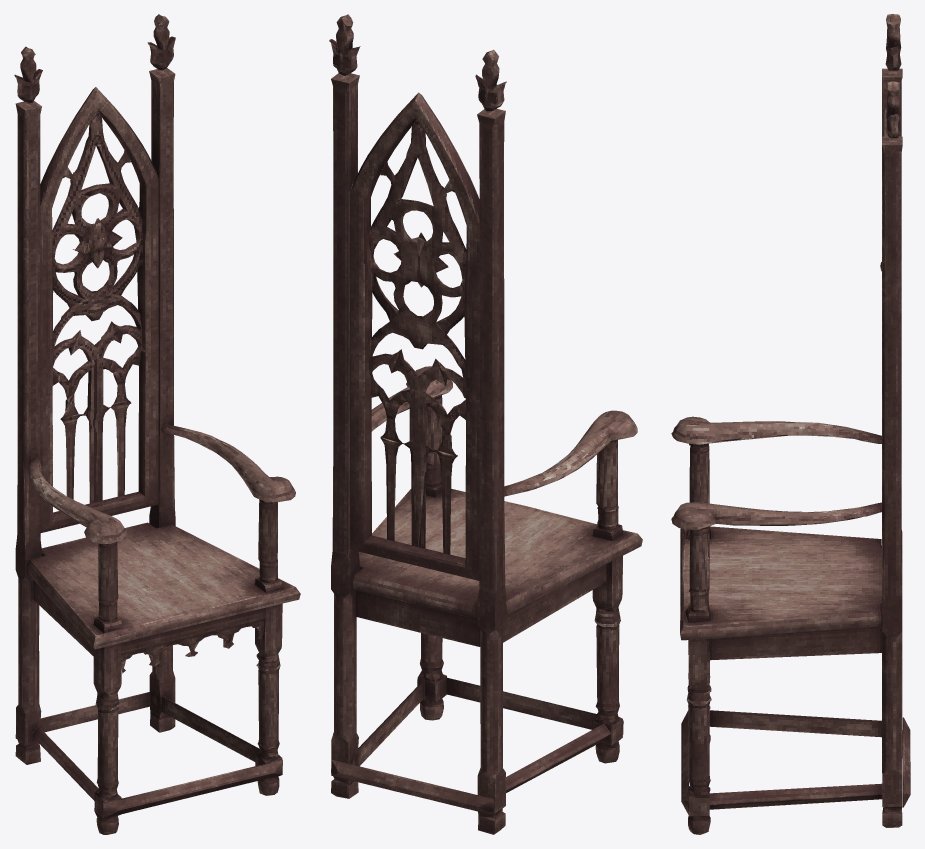
File: WoodenChair_01.glb
3 views of the same model, side by side, from view 1: azimuth 30°, elevation 25°; view 2: azimuth 150°, elevation 25°; view 3: azimuth 270°, elevation 25° (orthographic). The views are drawn at different scales.
Parts seen in each view (by area): view 1: body; view 2: body; view 3: body.
Boxes of the visible parts, x1,y1,x2,y2 form: body: [14, 14, 300, 834]; body: [329, 14, 642, 834]; body: [671, 14, 910, 834].
Bounding box in the file's own units: 0.6899 × 2.27 × 0.6632.
1 material, 1 textured.
